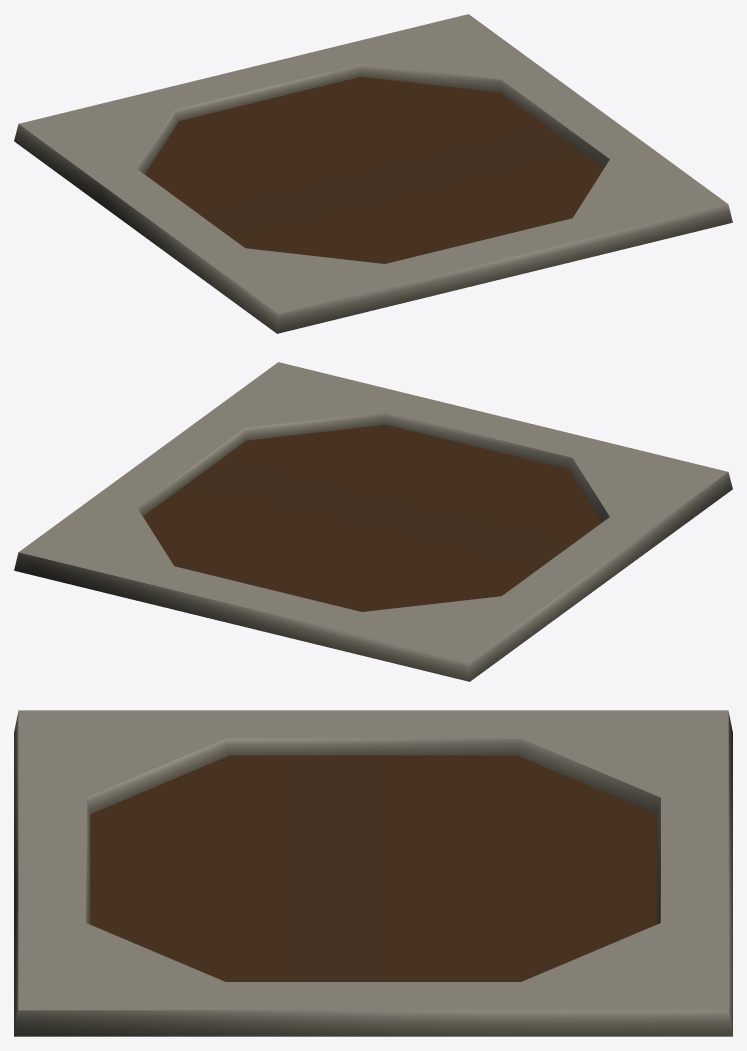
Rendered from Pavement_2D_8X8.fbx.
3 renders of one model, top to bottom at view 1: azimuth 30°, elevation 25°; view 2: azimuth 150°, elevation 25°; view 3: azimuth 270°, elevation 25°, orthographic. The views are drawn at different scales.
Parts seen in each view (by area): view 1: Pavement_2D_8X8; view 2: Pavement_2D_8X8; view 3: Pavement_2D_8X8.
Part boxes in pixels (box(x1,y1,x2,y2)): Pavement_2D_8X8: box(14, 14, 732, 333); Pavement_2D_8X8: box(14, 362, 732, 681); Pavement_2D_8X8: box(14, 710, 732, 1036).
Size of the model in its own units: 8 by 0.3 by 8.
